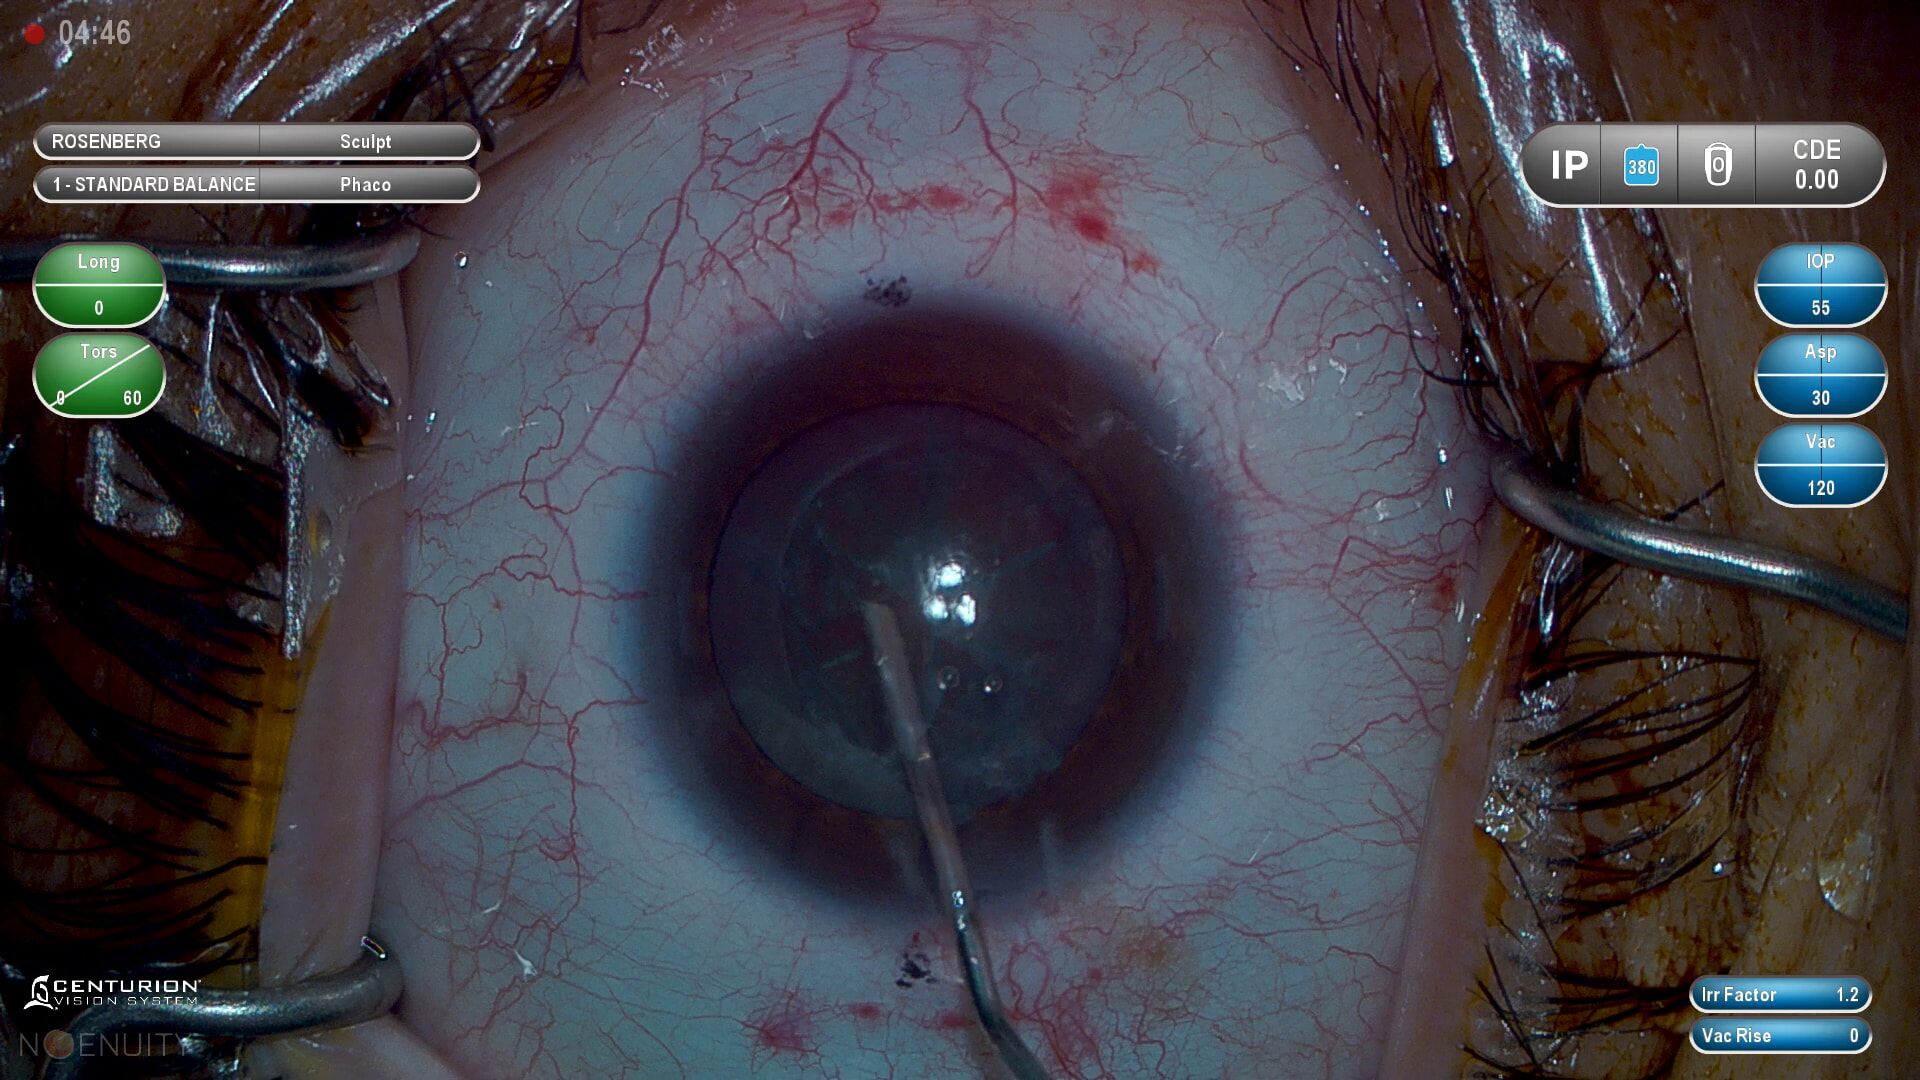iris: (662, 324, 1208, 890)
pupil: (711, 414, 1130, 822)
